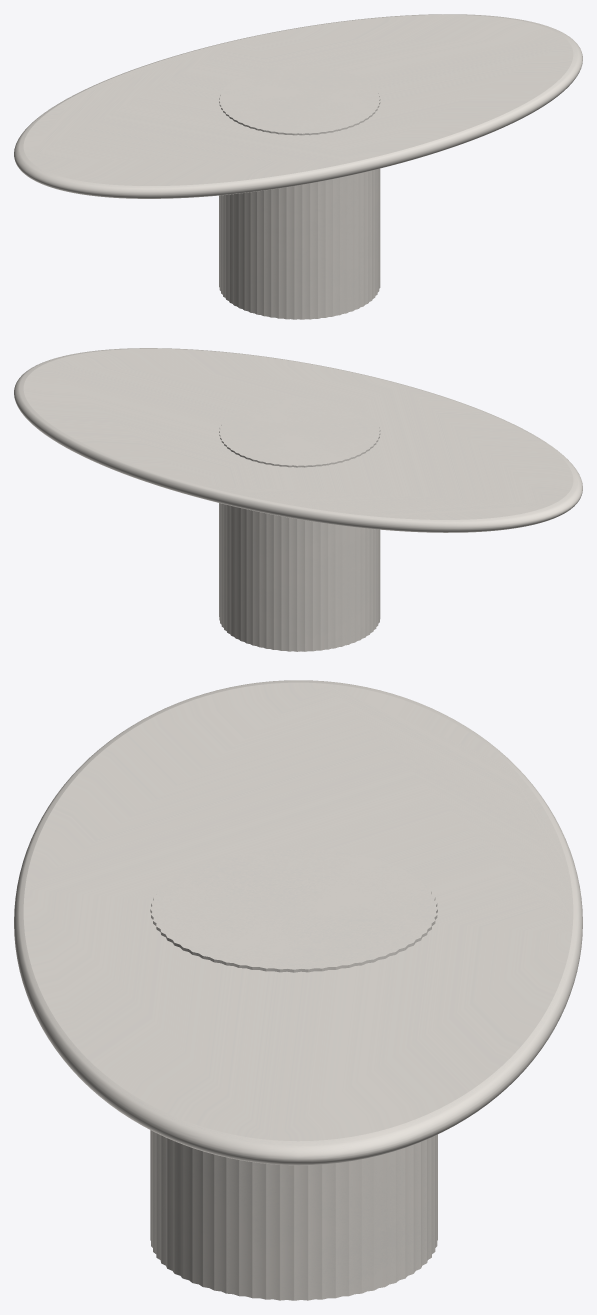
File: pearlwhite_ellips_round_ripple.glb
3 views of the same model, one above another, from view 1: azimuth 30°, elevation 25°; view 2: azimuth 150°, elevation 25°; view 3: azimuth 270°, elevation 25° (orthographic). The views are drawn at different scales.
Parts seen in each view (by area): view 1: tabletop_ellips_round.016, tableleg_ripple.002; view 2: tabletop_ellips_round.016, tableleg_ripple.002; view 3: tabletop_ellips_round.016, tableleg_ripple.002.
Boxes of the visible parts, <box> form: tabletop_ellips_round.016: <box>14,14,582,198</box>; tableleg_ripple.002: <box>219,65,380,319</box>; tabletop_ellips_round.016: <box>14,348,582,532</box>; tableleg_ripple.002: <box>219,397,380,651</box>; tabletop_ellips_round.016: <box>14,680,582,1165</box>; tableleg_ripple.002: <box>150,848,437,1300</box>.
Size of the model in its own units: 7.5 by 2.44 by 3.8.
2 materials, 2 textured.
